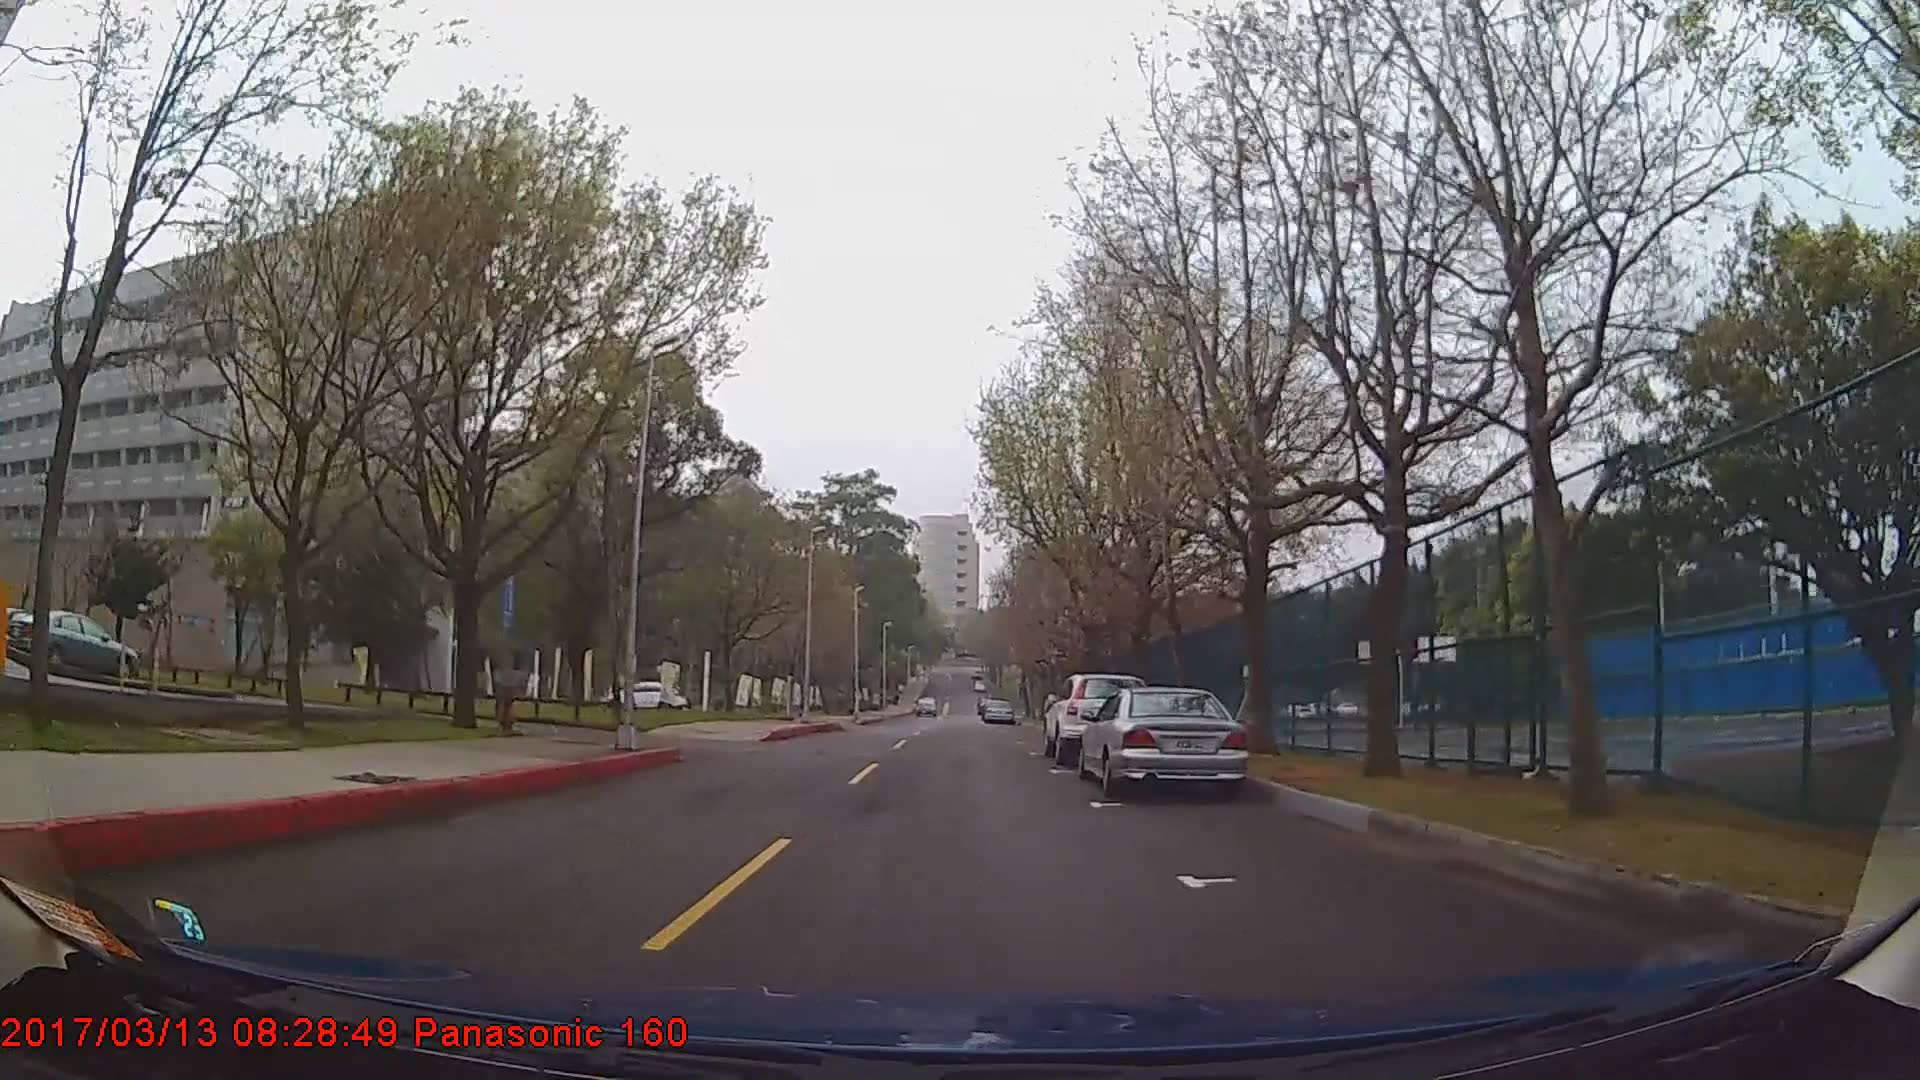vehicle: (1083, 686, 1255, 803), (5, 607, 138, 680), (1042, 670, 1145, 764), (605, 676, 688, 707), (981, 696, 1013, 724)
